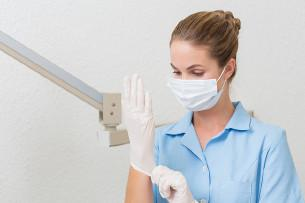OK: (171, 56, 225, 110)
